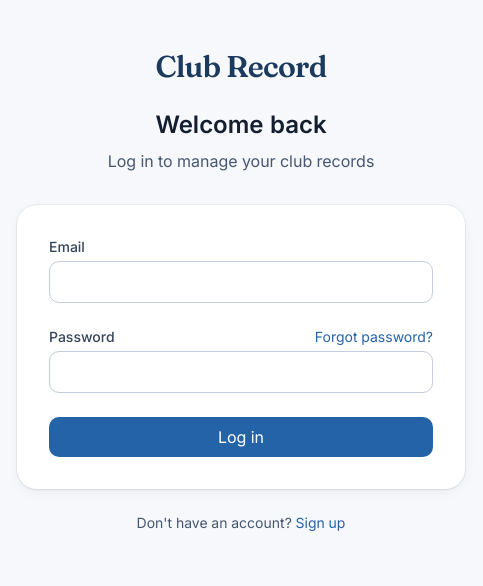
Test: LoginPage › shows the returned error message and re-enables the button
The width and height of the screenshot is (483, 586).
Type "a@b.com" into the field labelled "Email". click: (241, 282)
box: [49,261,433,303]
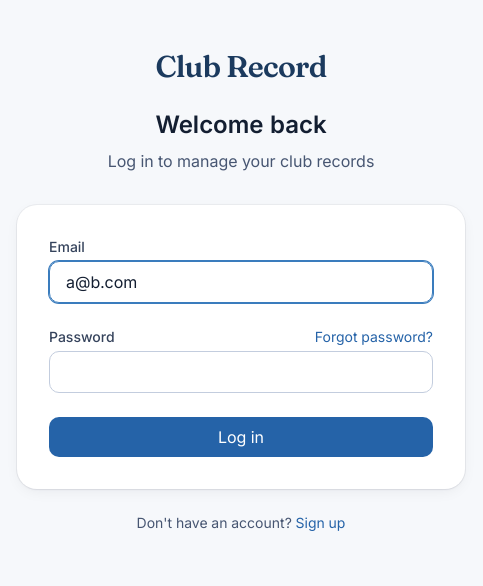
Type "secret1" into the password field labelled "Password". click: (241, 372)
box: [49,351,433,393]
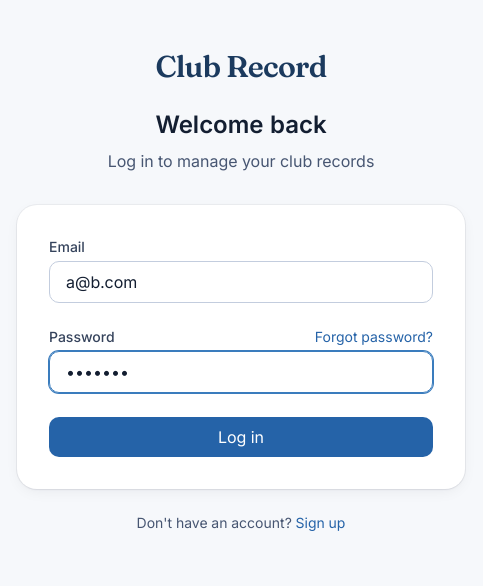
Click the button "Log in". click: (241, 437)
box: [49,417,433,457]
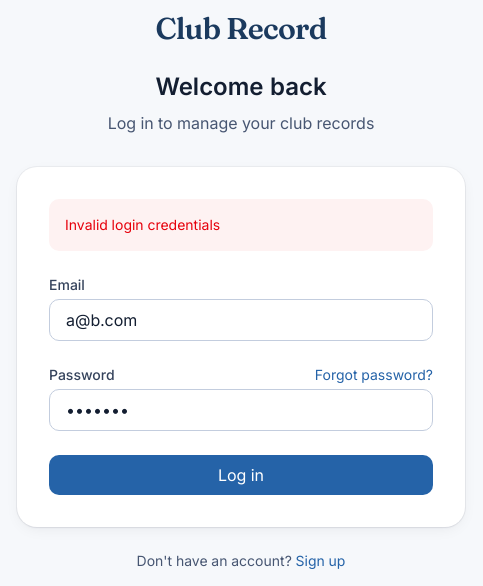
Check: the button "Log in" is enabled, box [49,455,433,495]
Check: the text "Invalid login credentials" is shown, box [49,199,433,251]
